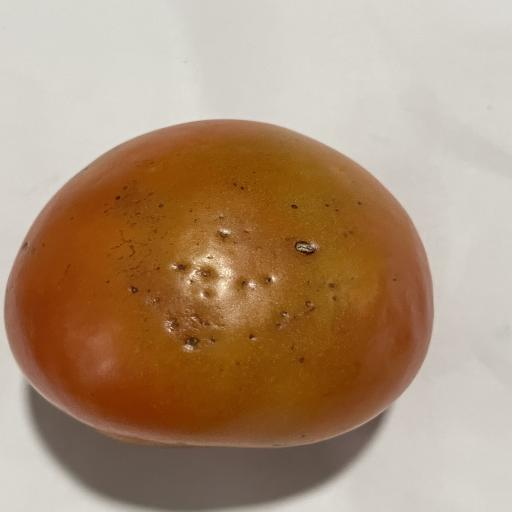unripe: (5, 120, 432, 448)
